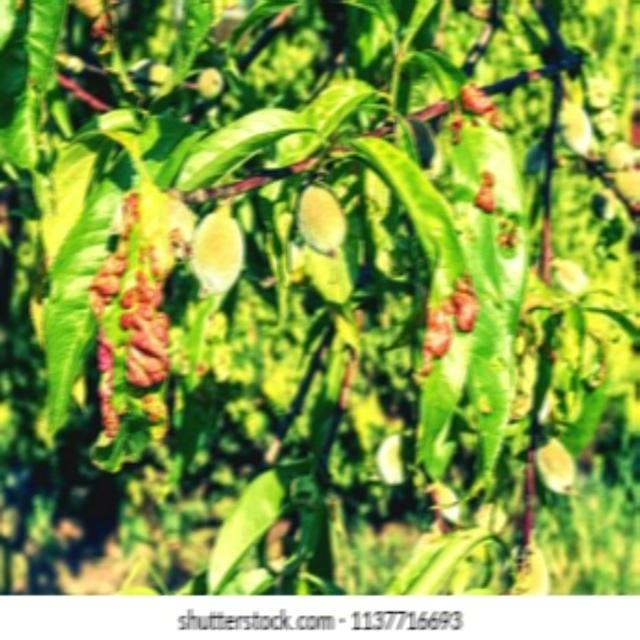leaf_curl: (381, 151, 497, 485), (89, 202, 179, 452), (444, 59, 547, 274)
